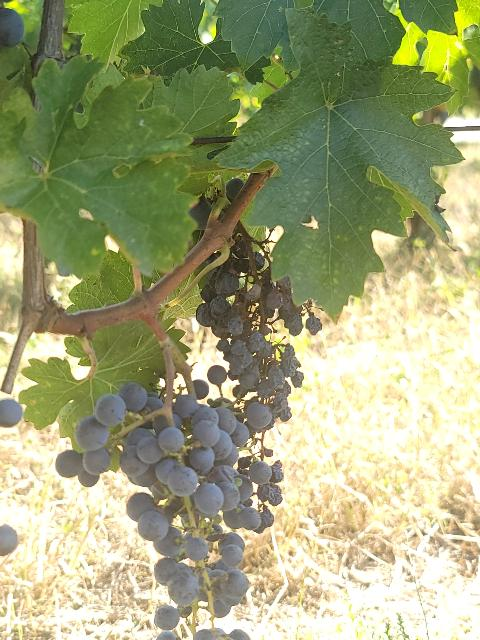grapes: (56, 382, 261, 631), (196, 229, 321, 432), (229, 449, 284, 530)
